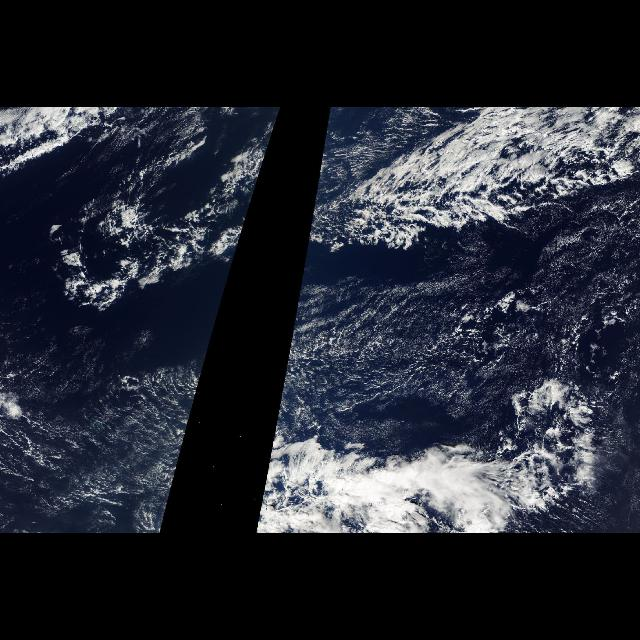Fish: (254, 109, 640, 532), (6, 110, 280, 530)
Sugar: (276, 238, 640, 432), (4, 334, 212, 534)
